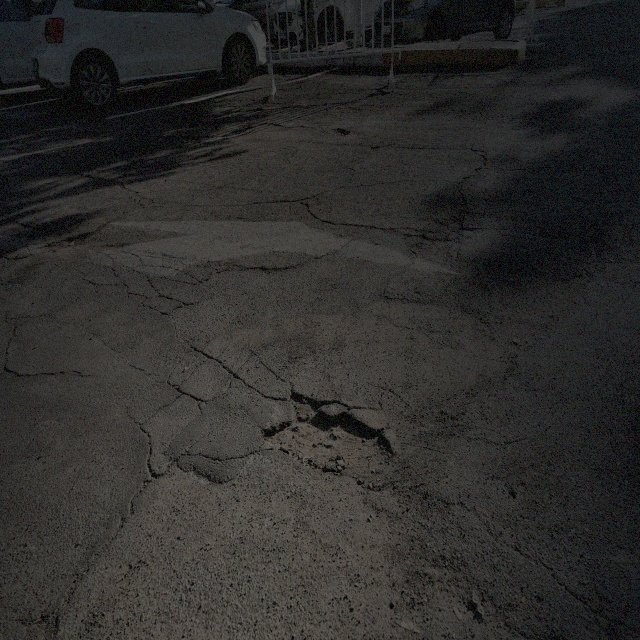pothole: (257, 386, 397, 491)
